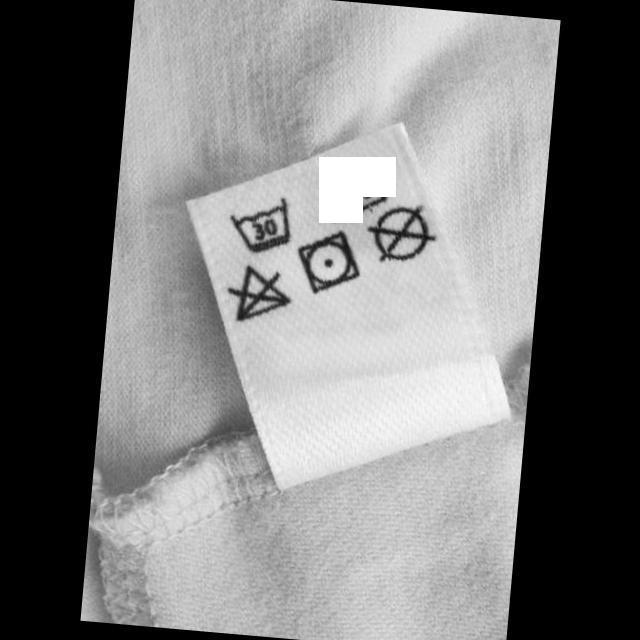30C: (224, 189, 296, 260)
DN_bleach: (222, 260, 300, 330)
DN_dry_clean: (363, 198, 442, 270)
tumble_dry_low: (292, 223, 368, 302)
